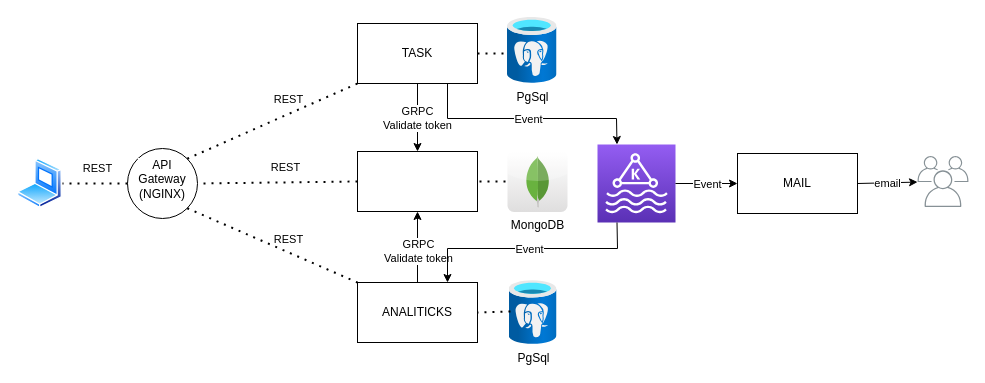
The diagram is 985 pixels wide and 383 high, and some of its shapes have lost their labels. The box of each missing label's shape, as (x1, y1, x2, y2) in pixels:
AUTH: (356, 150, 478, 212)
Client: (17, 158, 62, 208)
Kafka: (596, 144, 676, 222)
users: (917, 156, 968, 206)
